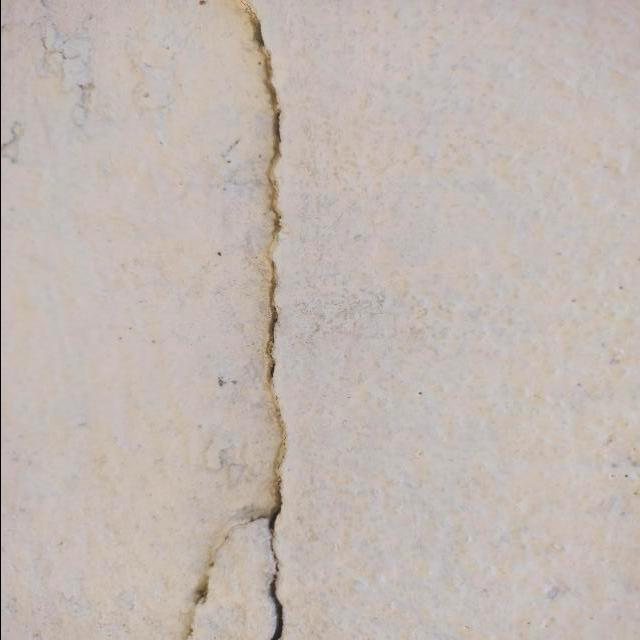SurfaceCrack: (163, 0, 318, 639)
